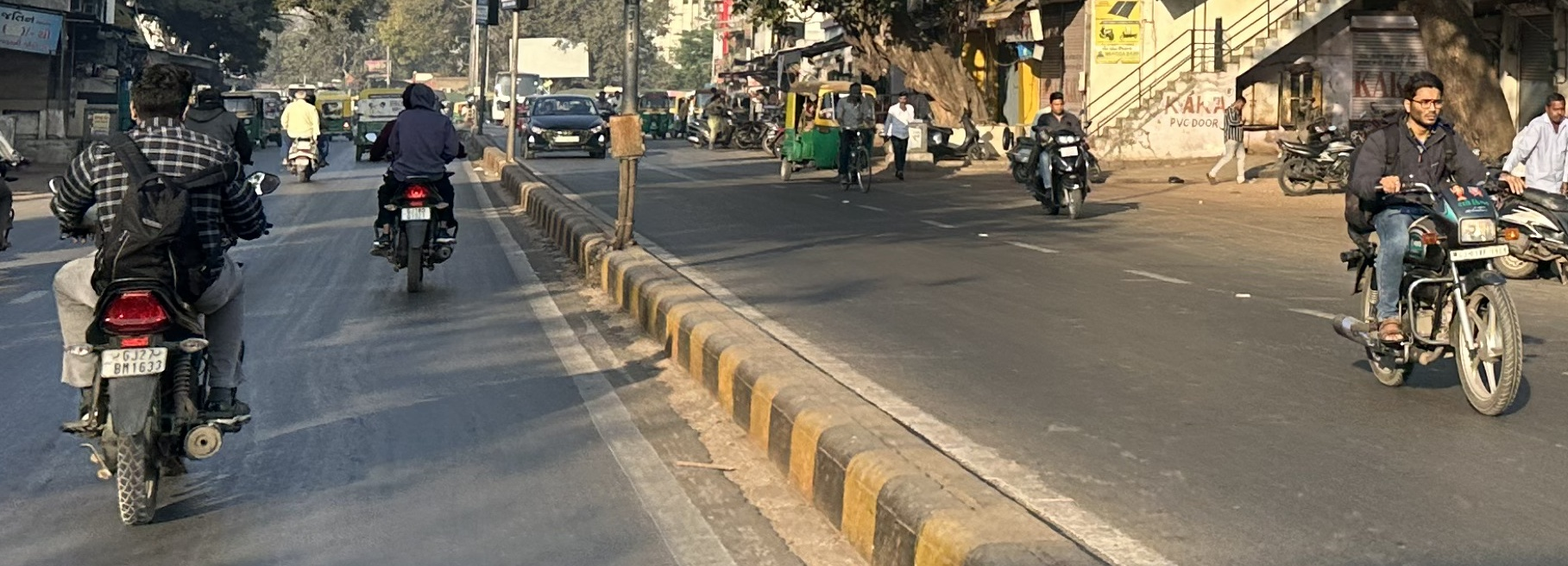BikeWithRider: (42, 54, 259, 517), (1338, 76, 1538, 425), (363, 73, 463, 294), (1014, 85, 1100, 220), (272, 76, 333, 184)
NoHelmet: (124, 60, 194, 132), (1402, 75, 1447, 128), (404, 80, 438, 116), (1049, 93, 1065, 116)
